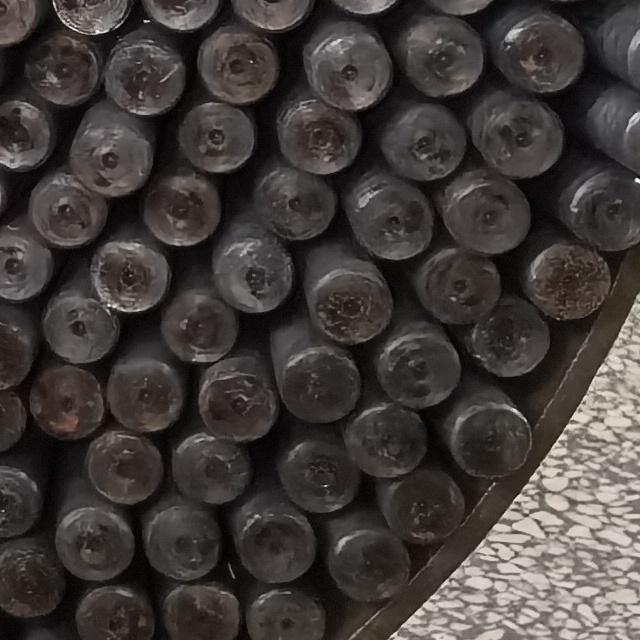tool: (485, 2, 592, 93), (288, 17, 392, 109), (209, 210, 296, 314), (364, 95, 466, 182), (339, 168, 435, 260), (469, 89, 566, 177), (518, 228, 611, 319), (435, 169, 530, 255), (322, 509, 408, 603), (70, 99, 154, 195), (372, 319, 462, 407), (200, 342, 281, 438), (465, 296, 556, 379), (105, 337, 185, 429), (138, 496, 223, 582), (104, 28, 186, 117), (135, 164, 223, 245), (410, 246, 502, 323), (10, 29, 103, 104), (248, 162, 334, 240), (379, 465, 465, 541), (160, 282, 240, 363), (194, 21, 276, 100), (302, 270, 393, 341), (167, 426, 252, 502), (280, 436, 362, 514), (27, 168, 107, 247), (402, 18, 485, 94), (343, 399, 428, 473), (277, 347, 357, 425), (236, 508, 318, 583), (84, 430, 167, 504), (54, 506, 135, 581), (86, 242, 170, 314), (27, 364, 104, 441), (0, 535, 63, 629), (565, 172, 640, 250), (450, 406, 533, 475), (42, 288, 121, 360), (280, 102, 362, 171), (176, 102, 254, 173), (75, 584, 156, 640), (164, 585, 241, 640), (0, 96, 53, 173), (0, 221, 52, 297), (248, 589, 325, 640), (597, 0, 640, 86), (0, 293, 36, 393), (0, 446, 40, 536), (51, 0, 142, 34), (143, 0, 226, 31), (230, 1, 316, 30), (0, 0, 48, 46), (0, 377, 26, 452)
